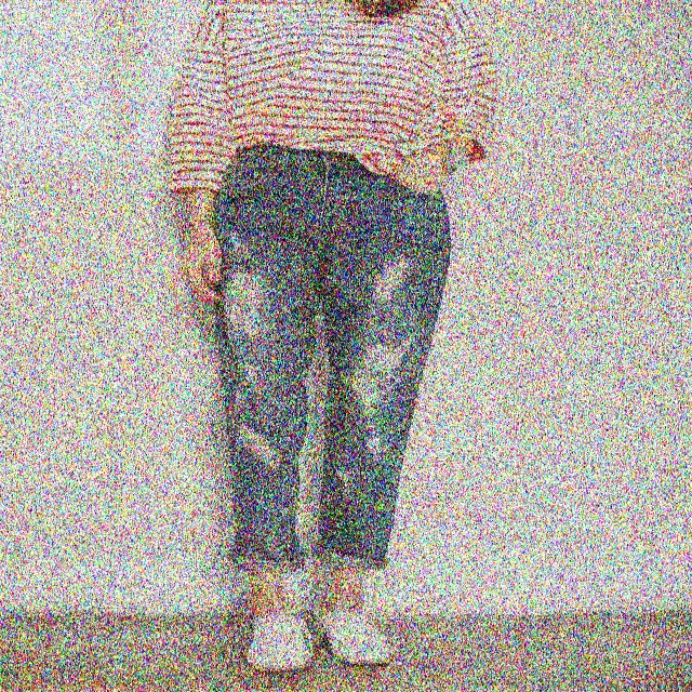ripped_pants: (201, 144, 452, 545)
